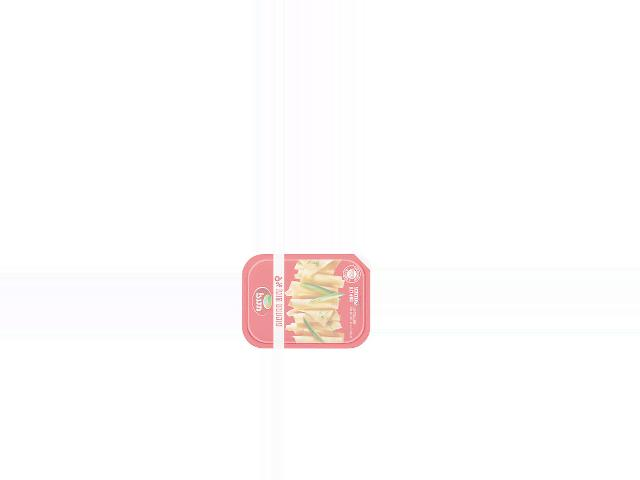cheese: (241, 254, 370, 349)
